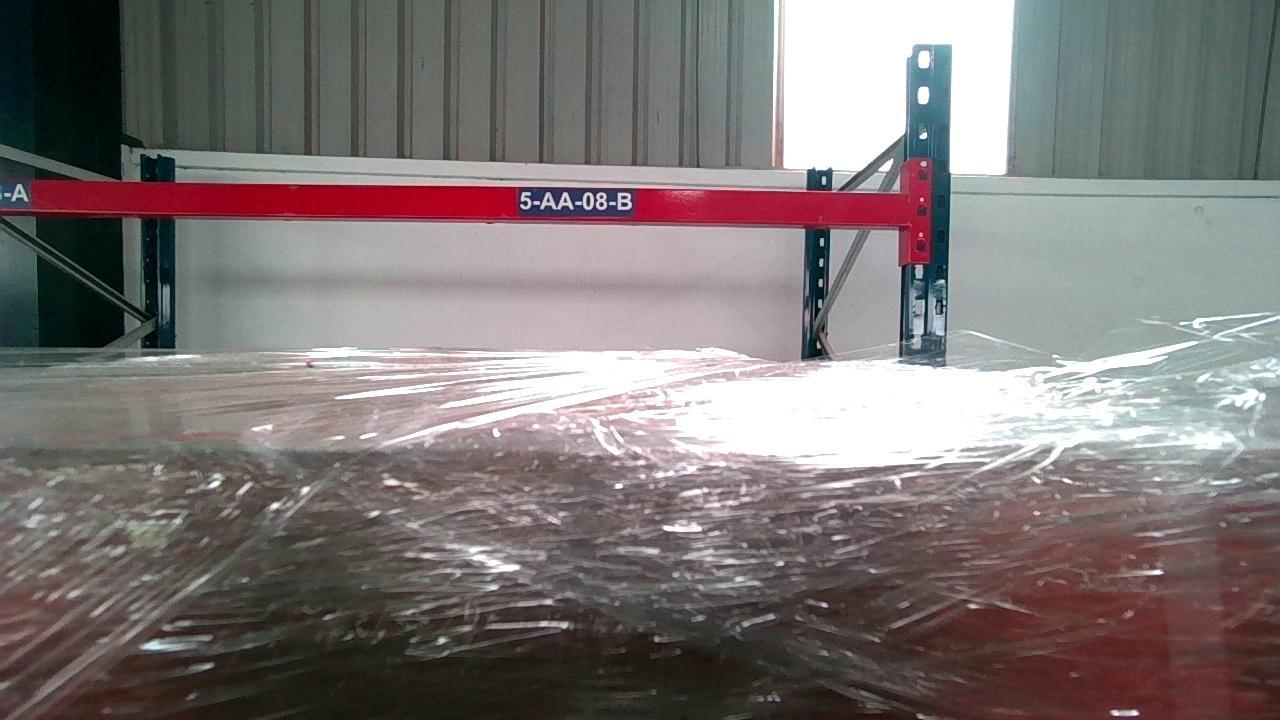h_rack: (0, 178, 905, 224)
